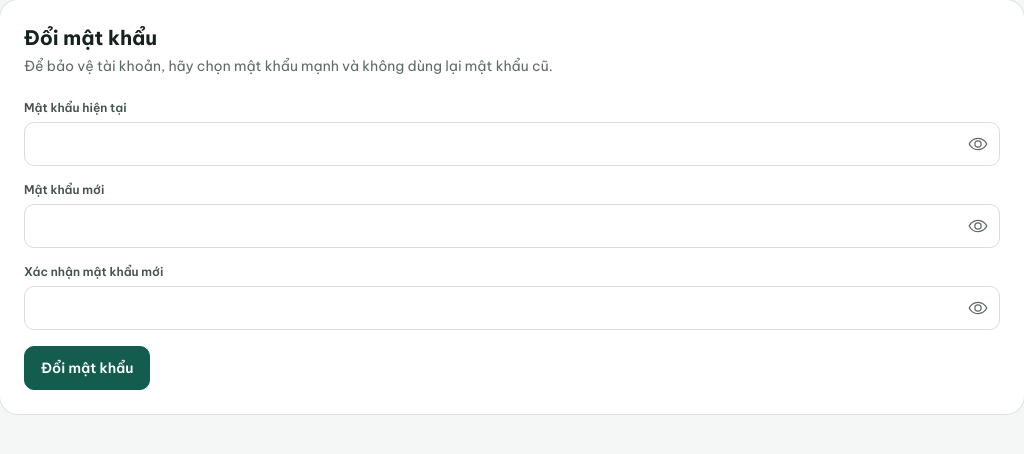
Test: ChangePasswordForm › báo lỗi khi mật khẩu xác nhận không khớp và không gọi API
Type "MatKhauCu@1" into the password field labelled "Mật khẩu hiện tại" at (512, 144), box [24,122,1000,166]
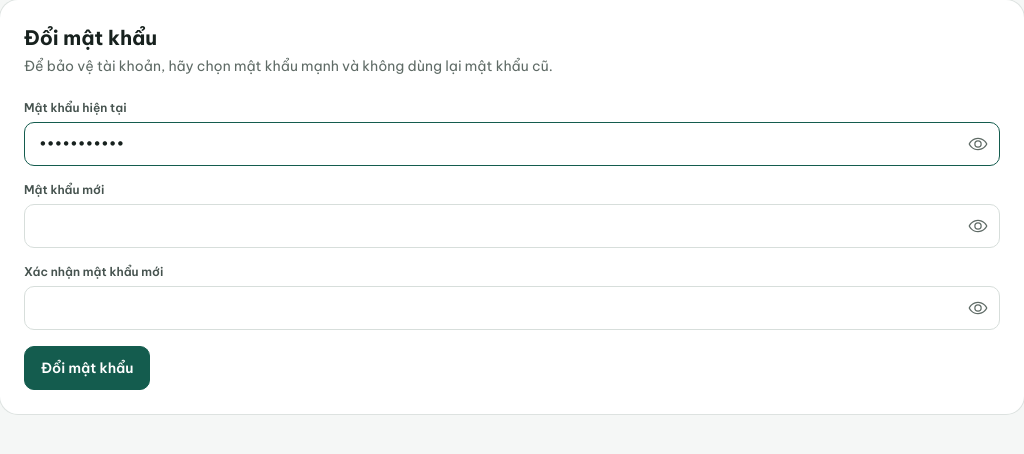
Type "MatKhauMoi@2" into the password field labelled "Mật khẩu mới" at (512, 226), box [24,204,1000,248]
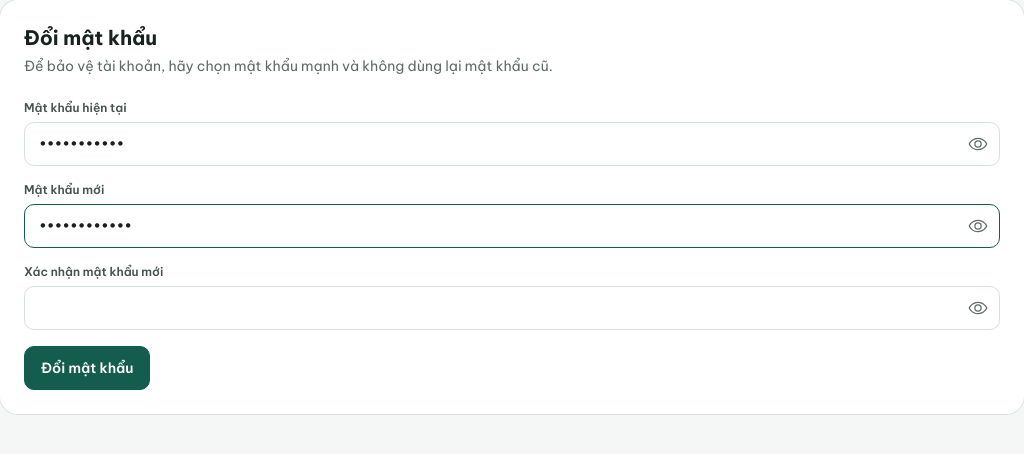
Type "KhacHoan@3" into the password field labelled "Xác nhận mật khẩu mới" at (512, 308), box [24,286,1000,330]
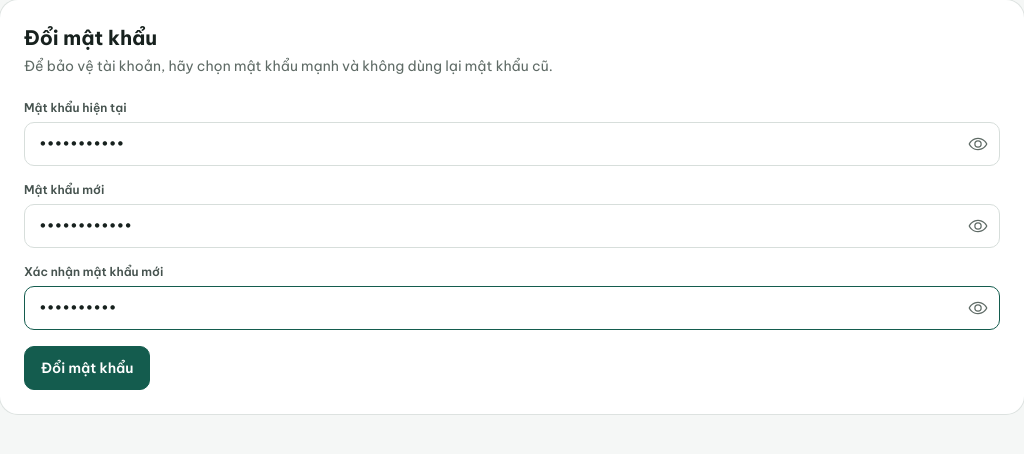
Click the button "Đổi mật khẩu" at (87, 368), box [24,346,150,390]
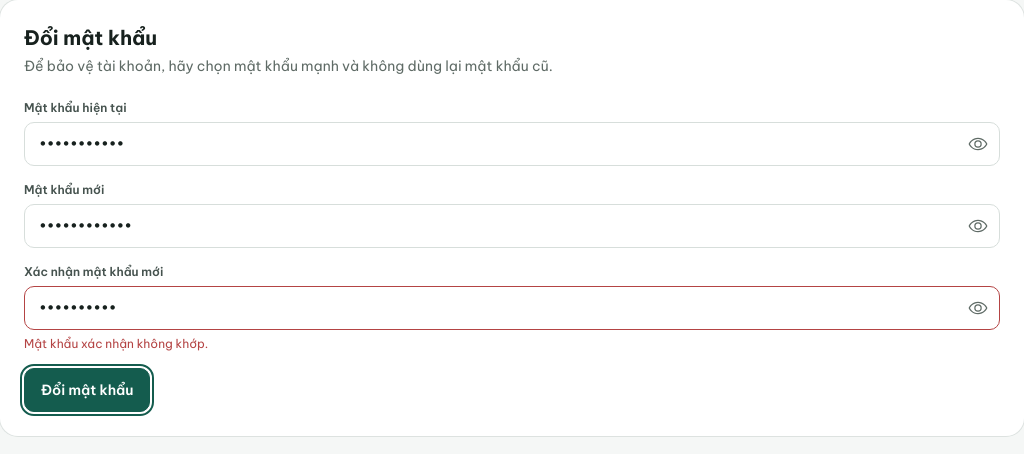
Check: the text "Mật khẩu xác nhận không khớp." is shown, box [24,336,208,351]
